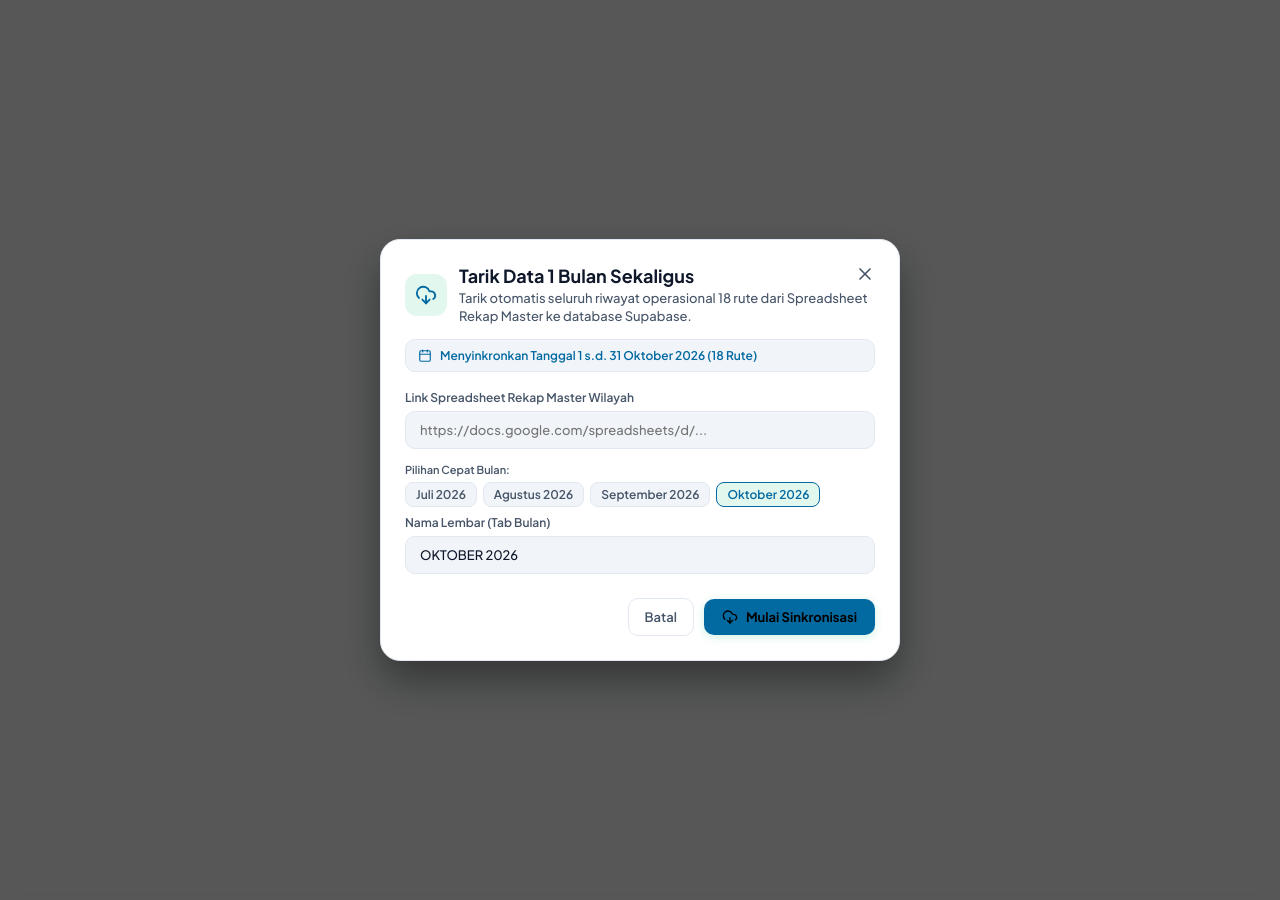
it: MonthlySyncModal › shows error if URL is empty when submitted
The width and height of the screenshot is (1280, 900).
Click the submit button at {"x": 789, "y": 617}, box 704,599 -> 875,635
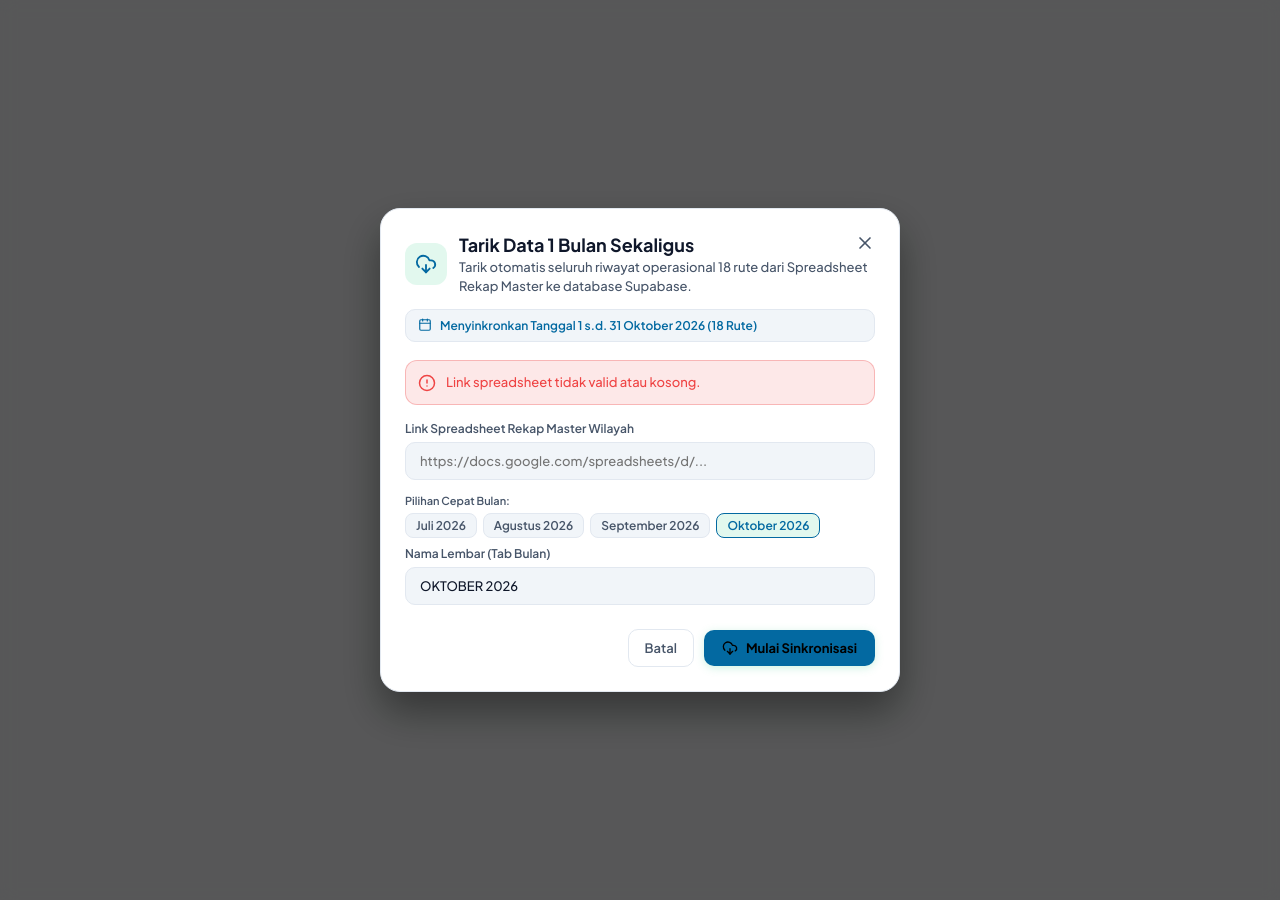
Now the text "Link spreadsheet tidak valid atau kosong." is shown, box 446,374 -> 700,390
